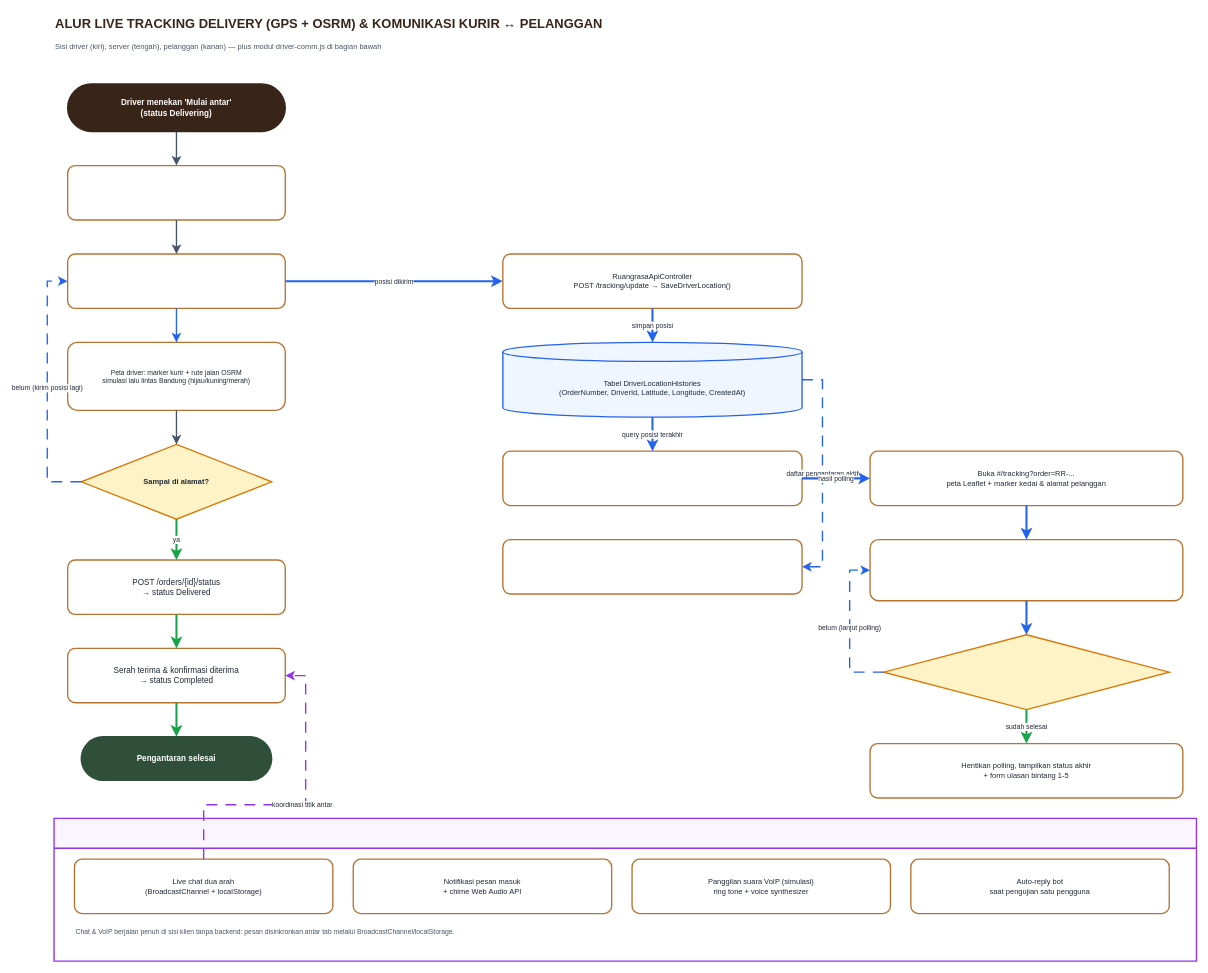
Some shapes in this 1208 by 973 pixel diagram are drawn without their labels. The box of each missing label's shape, as (x1, y1, x2, y2) in pixels:
GET /tracking/active-deliveries peta seluruh pengantaran aktif (dashboard staf): (502, 539, 802, 594)
GET /tracking/latest/{orderId} ambil posisi kurir terakhir: (502, 450, 802, 506)
KOMUNIKASI KURIR ↔ PELANGGAN (js/components/driver-comm.js): (53, 817, 1197, 962)
navigator.geolocation.watchPosition() mengirim posisi setiap beberapa detik: (67, 165, 286, 220)
POST /tracking/update { OrderNumber, DriverId, Latitude, Longitude }: (67, 253, 286, 309)
startLivePolling() — polling berkala GET /tracking/latest/{orderId}: (869, 539, 1183, 601)
Status sudah Delivered / Completed?: (883, 634, 1170, 710)
